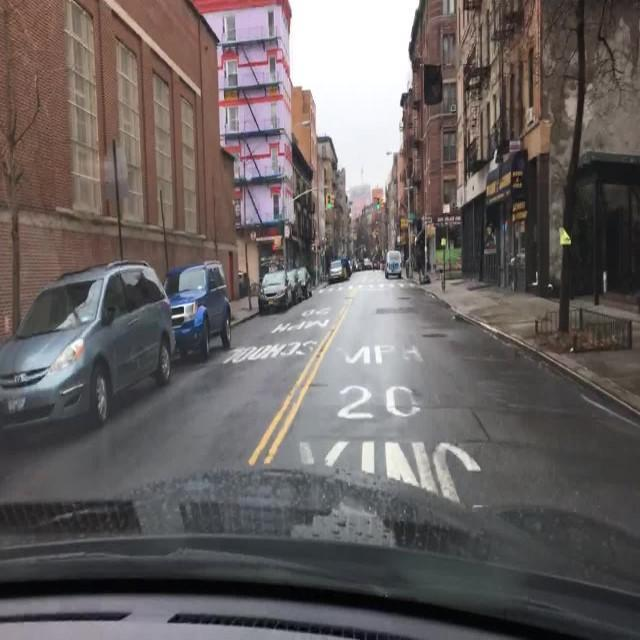normal: (0, 257, 172, 432), (168, 259, 236, 362), (260, 270, 299, 312), (327, 260, 349, 284)
